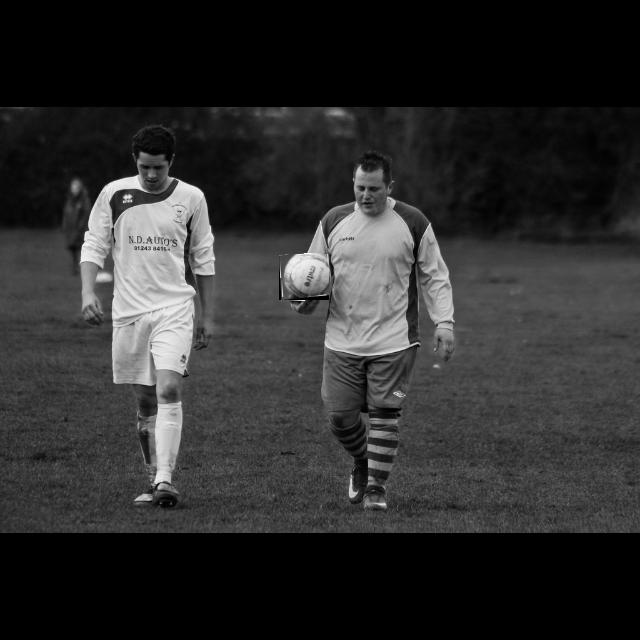Football: (279, 254, 329, 300)
